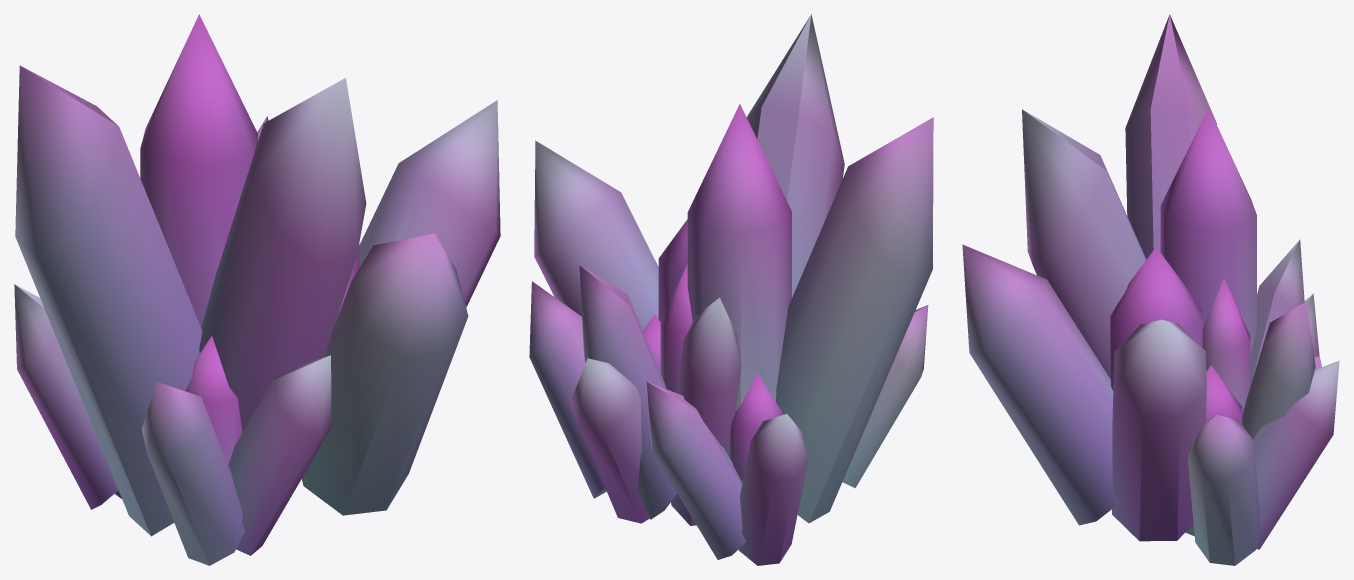
Rendered from purple-crystal.gltf.
3 renders of one model, left to right at view 1: azimuth 30°, elevation 25°; view 2: azimuth 150°, elevation 25°; view 3: azimuth 270°, elevation 25°, orthographic. The views are drawn at different scales.
Size of the model in its own units: 0.6835 by 0.712 by 0.583.
